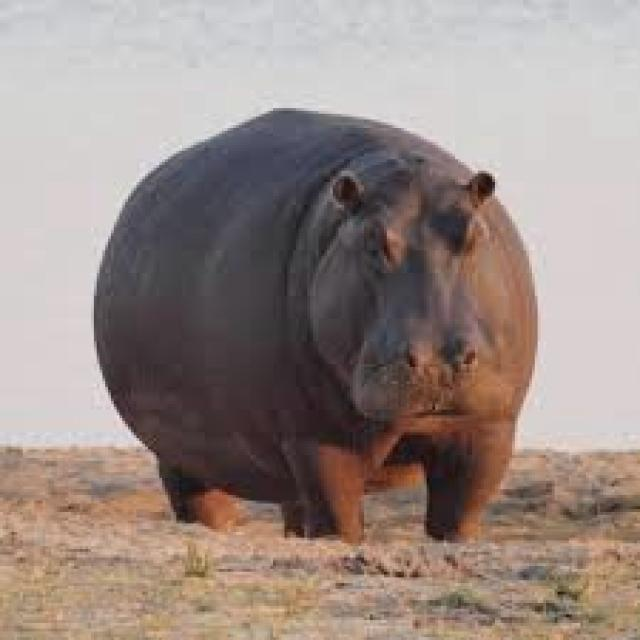hippopotamus: (94, 108, 535, 540)
